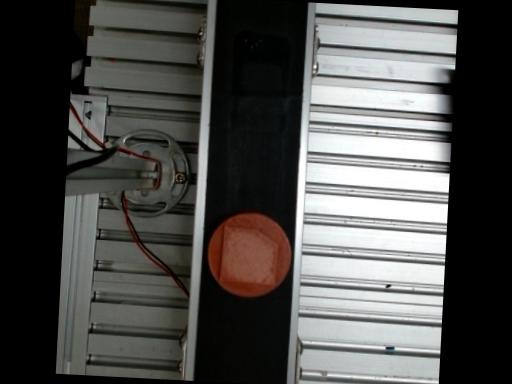Brown_Waper: (207, 214, 289, 297)
Not_Square: (218, 225, 277, 285)
